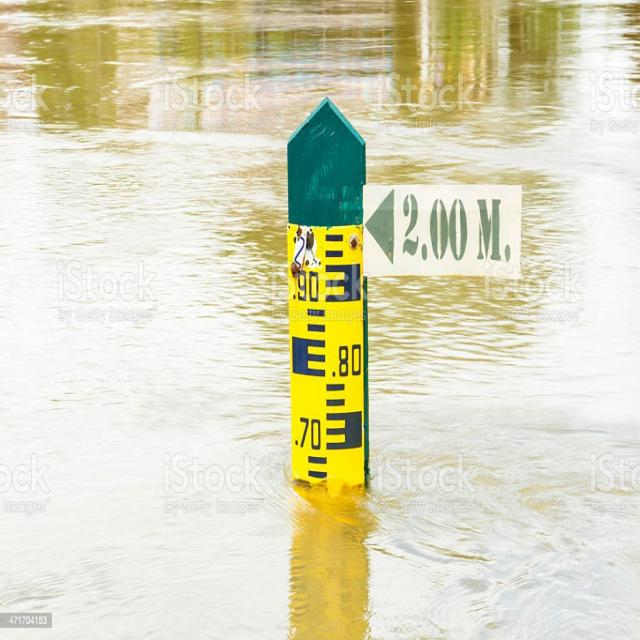ruler: (281, 212, 381, 504)
value: (325, 340, 364, 384), (290, 411, 326, 454), (292, 267, 322, 305), (290, 228, 309, 268), (9, 614, 25, 632)
